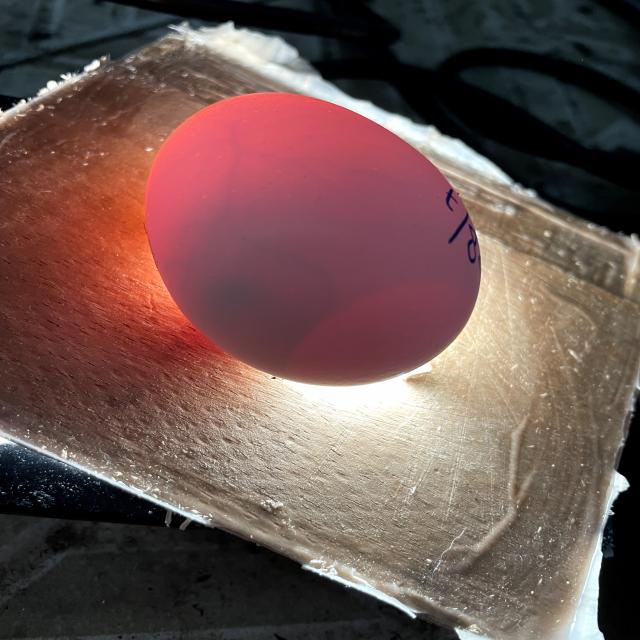fertile: (145, 93, 480, 385)
